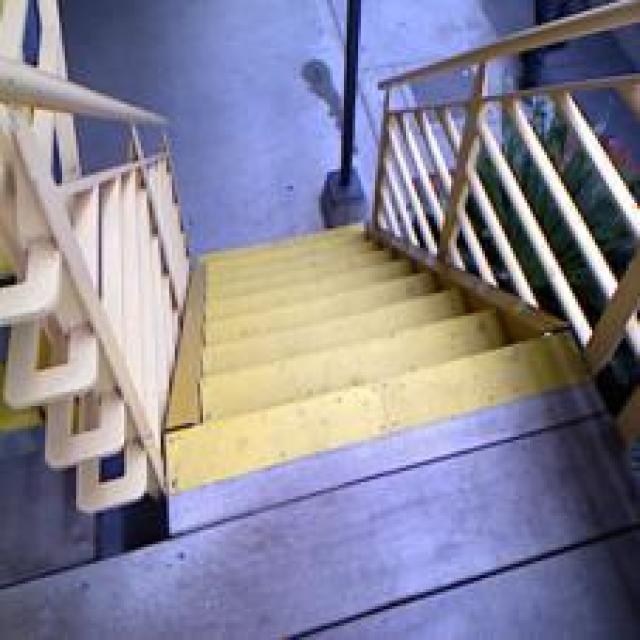downstair: (156, 334, 602, 523)
